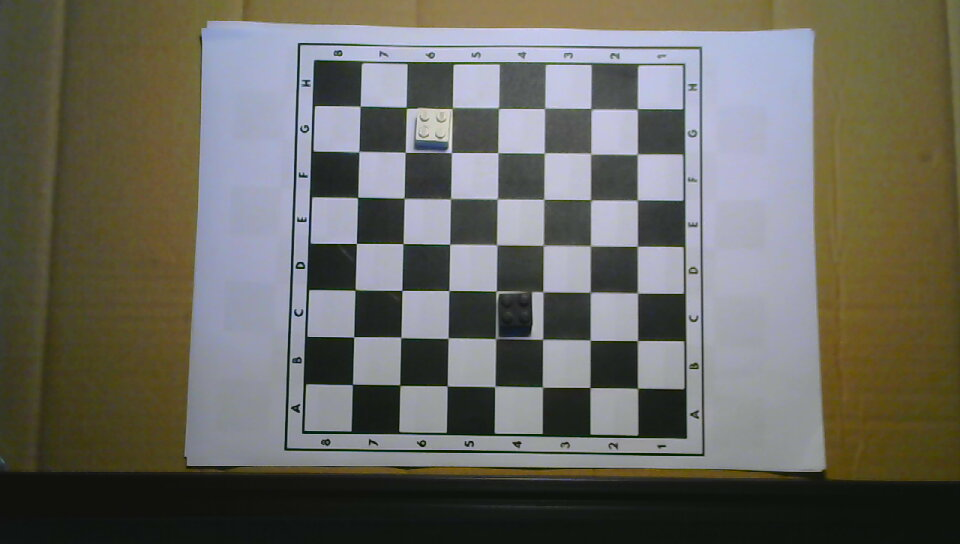bp: (497, 291, 533, 332)
wp: (414, 105, 451, 149)
